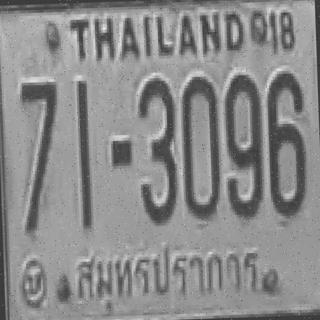N00: (179, 73, 221, 219)
N01: (76, 80, 90, 206)
N03: (135, 76, 176, 222)
N06: (264, 70, 306, 216)
N07: (18, 79, 59, 225), (17, 79, 58, 188), (17, 79, 57, 177)
N09: (222, 72, 263, 218)
P57: (68, 232, 263, 314)
